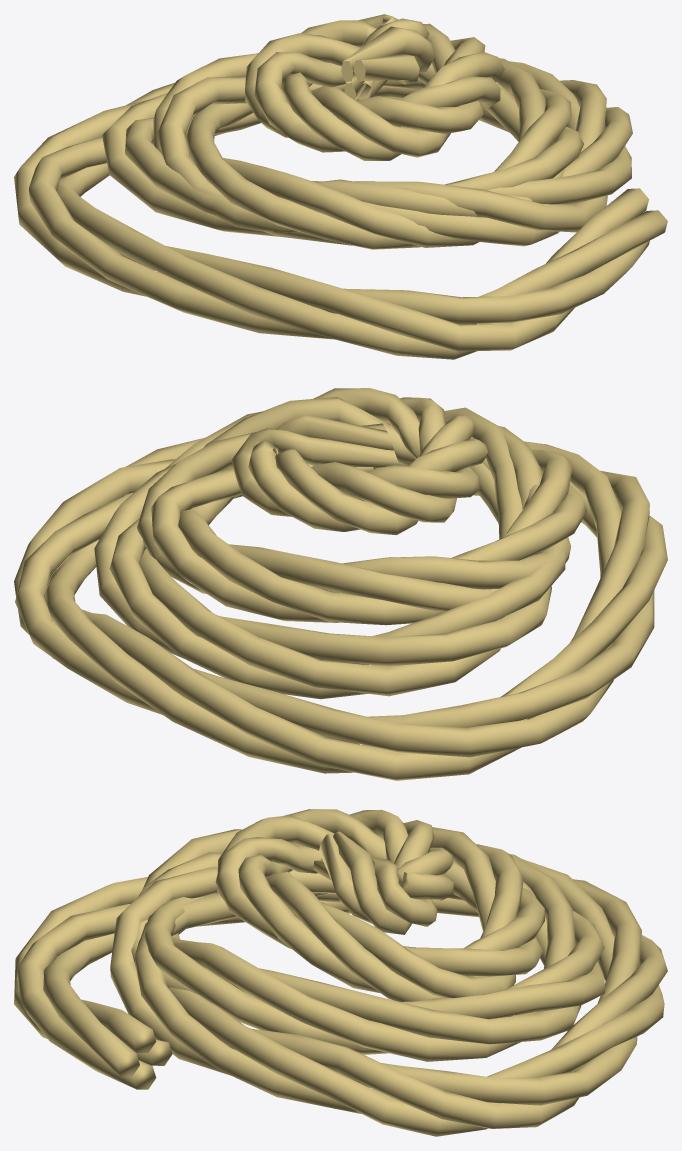
Rendered from RopeCoil.fbx.
3 views of the same model, one above another, from view 1: azimuth 30°, elevation 25°; view 2: azimuth 150°, elevation 25°; view 3: azimuth 270°, elevation 25° (orthographic). The views are drawn at different scales.
Parts seen in each view (by area): view 1: RopeCoil; view 2: RopeCoil; view 3: RopeCoil.
Boxes of the visible parts, x1=… form: RopeCoil: x1=14, y1=14, x2=667, y2=359; RopeCoil: x1=14, y1=388, x2=667, y2=780; RopeCoil: x1=14, y1=809, x2=667, y2=1136.
Size of the model in its own units: 1.49 by 0.5397 by 1.58.
